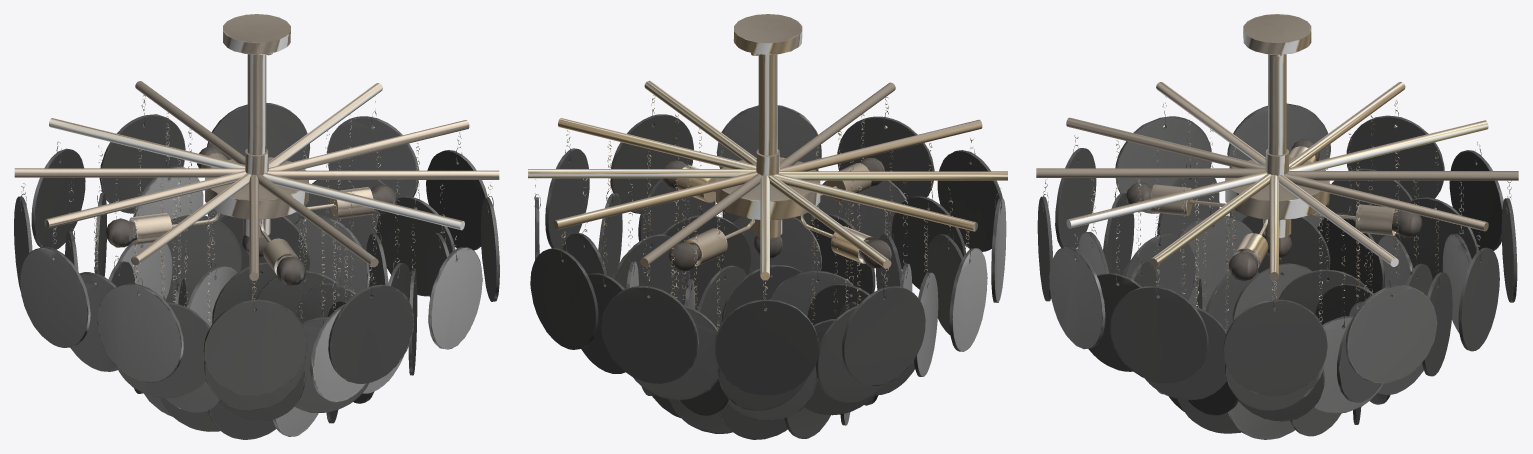
The model's file is lighting_pendant_light_2b07354d-8d74-50b6-a94b-98d69fd729aa.glb.
The picture shows the model from 3 angles, left to right: view 1: azimuth 30°, elevation 25°; view 2: azimuth 150°, elevation 25°; view 3: azimuth 270°, elevation 25°; orthographic projection.
Parts seen in each view (by area): view 1: raw_model.obj; view 2: raw_model.obj; view 3: raw_model.obj.
Part boxes in pixels (x1=…): raw_model.obj: x1=14, y1=14, x2=499, y2=439; raw_model.obj: x1=528, y1=14, x2=1007, y2=439; raw_model.obj: x1=1036, y1=14, x2=1518, y2=439.
Size of the model in its own units: 0.714 by 0.6025 by 0.7106.
1 material, 1 textured.
